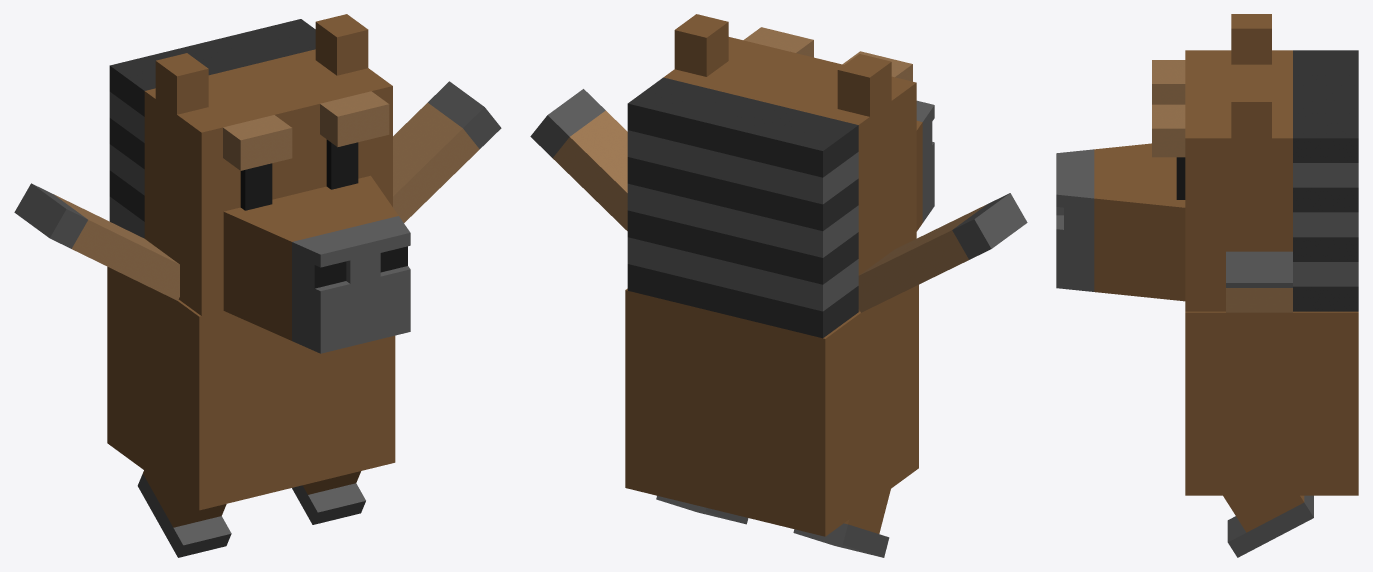
File: Ch_31@Down.FBX
The picture shows the model from 3 angles, left to right: view 1: azimuth 30°, elevation 25°; view 2: azimuth 150°, elevation 25°; view 3: azimuth 270°, elevation 25°; orthographic projection. The views are drawn at different scales.
Parts seen in each view (by area): view 1: Ch_31_Head, Ch_31, Ch_31_Hand_R, Ch_31_Hand_L, Ch_31_Eyebrow, Ch_31_Leg_L, Ch_31_Eye_01, Ch_31_Leg_R; view 2: Ch_31_Head, Ch_31, Ch_31_Hand_L, Ch_31_Hand_R, Ch_31_Leg_L, Ch_31_Eyebrow, Ch_31_Leg_R; view 3: Ch_31_Head, Ch_31, Ch_31_Hand_R, Ch_31_Leg_R, Ch_31_Eyebrow, Ch_31_Eye_01.
Boxes of the visible parts, box(x1,y1,x2,y2) form: Ch_31_Head: box(109, 14, 410, 353); Ch_31: box(107, 266, 395, 510); Ch_31_Hand_R: box(393, 81, 501, 222); Ch_31_Hand_L: box(14, 183, 179, 300); Ch_31_Eyebrow: box(223, 91, 389, 170); Ch_31_Leg_L: box(137, 470, 231, 557); Ch_31_Eye_01: box(240, 139, 358, 210); Ch_31_Leg_R: box(292, 471, 365, 524); Ch_31_Head: box(627, 14, 934, 338); Ch_31: box(625, 284, 918, 536); Ch_31_Hand_L: box(858, 193, 1027, 312); Ch_31_Hand_R: box(530, 89, 627, 230); Ch_31_Leg_L: box(793, 489, 890, 557); Ch_31_Eyebrow: box(743, 27, 912, 81); Ch_31_Leg_R: box(656, 495, 748, 524); Ch_31_Head: box(1056, 14, 1358, 311); Ch_31: box(1185, 311, 1358, 495); Ch_31_Hand_R: box(1226, 251, 1292, 312); Ch_31_Leg_R: box(1223, 495, 1313, 557); Ch_31_Eyebrow: box(1152, 60, 1185, 157); Ch_31_Eye_01: box(1176, 157, 1185, 199).
Size of the model in its own units: 12.4 by 12.72 by 7.61.
